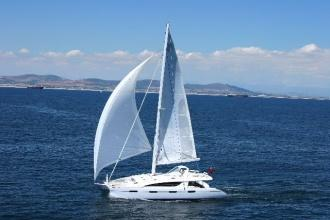fanchuan: (94, 23, 218, 200)
